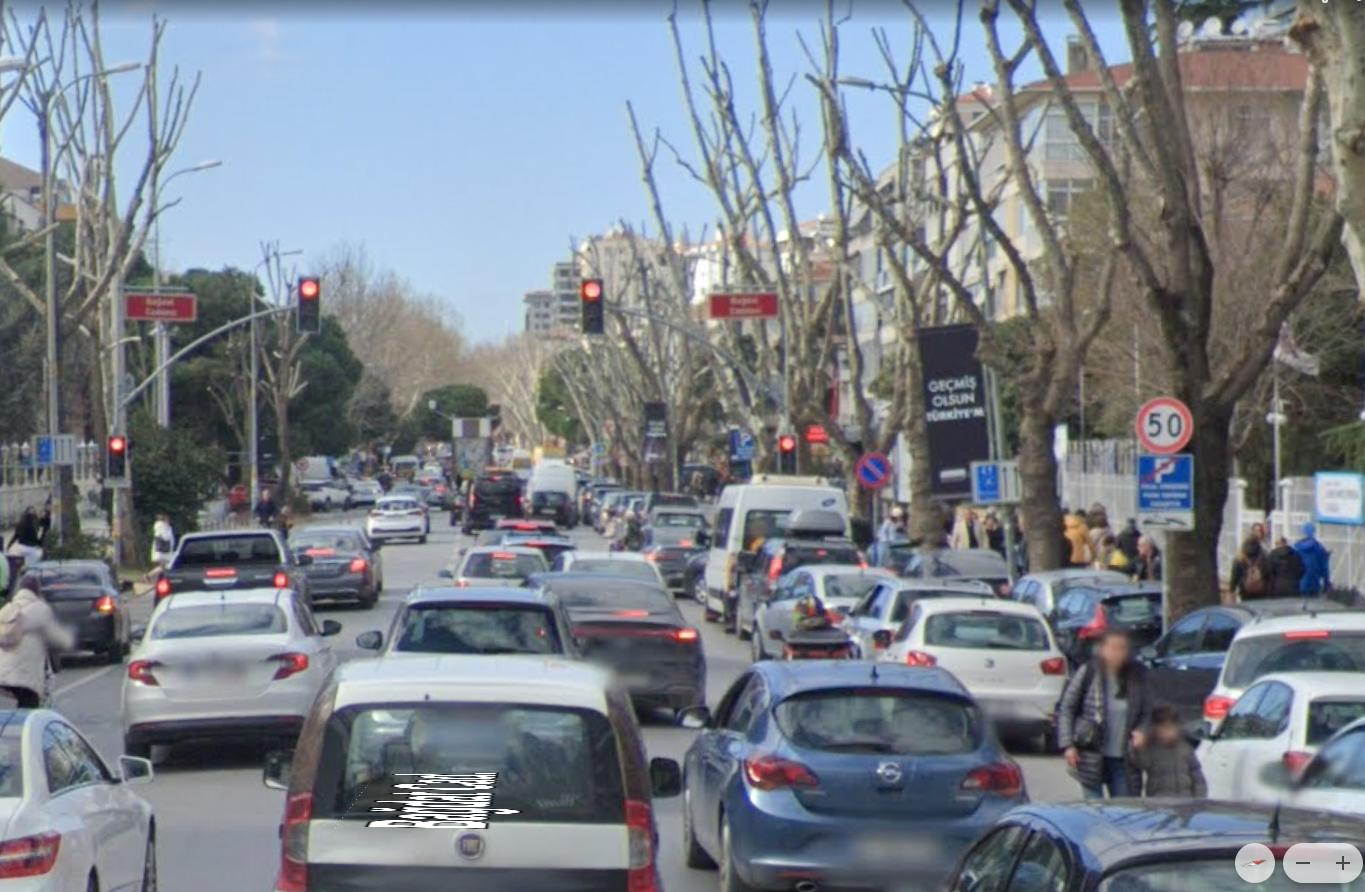nopark: (855, 452, 896, 492)
redlight: (584, 278, 606, 334), (299, 277, 320, 330), (105, 435, 124, 484), (781, 435, 800, 476)
